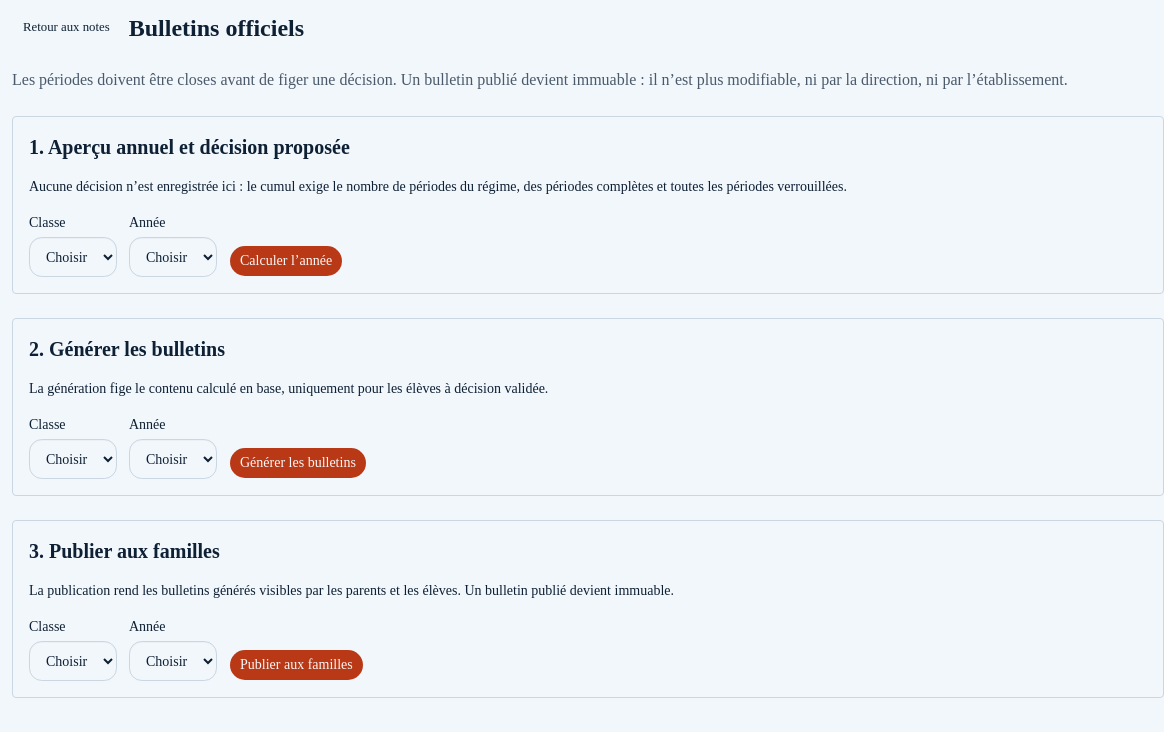
it: rejoue l’aperçu après la validation d’une décision
The width and height of the screenshot is (1164, 732).
Select "CM2" in the dropdown named "classId" at (73, 257), box x1=29 y1=237 x2=117 y2=277
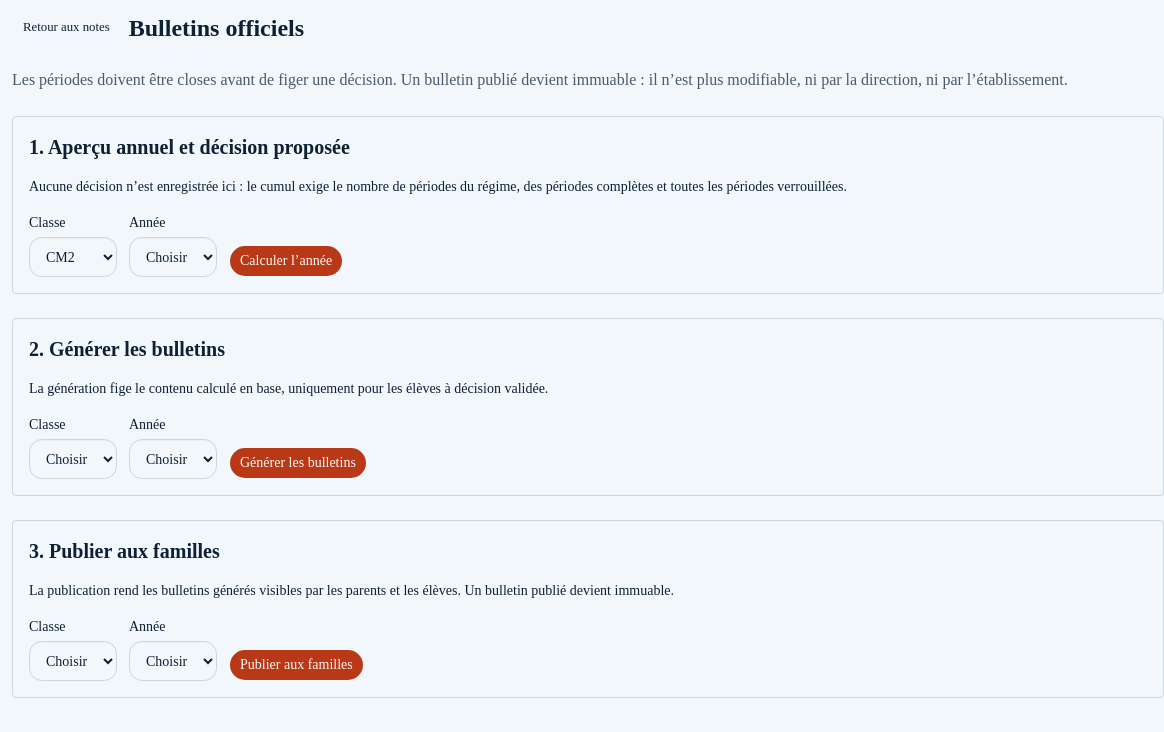
Select "2026" in the dropdown named "academicYearId" at (173, 257), box x1=129 y1=237 x2=217 y2=277
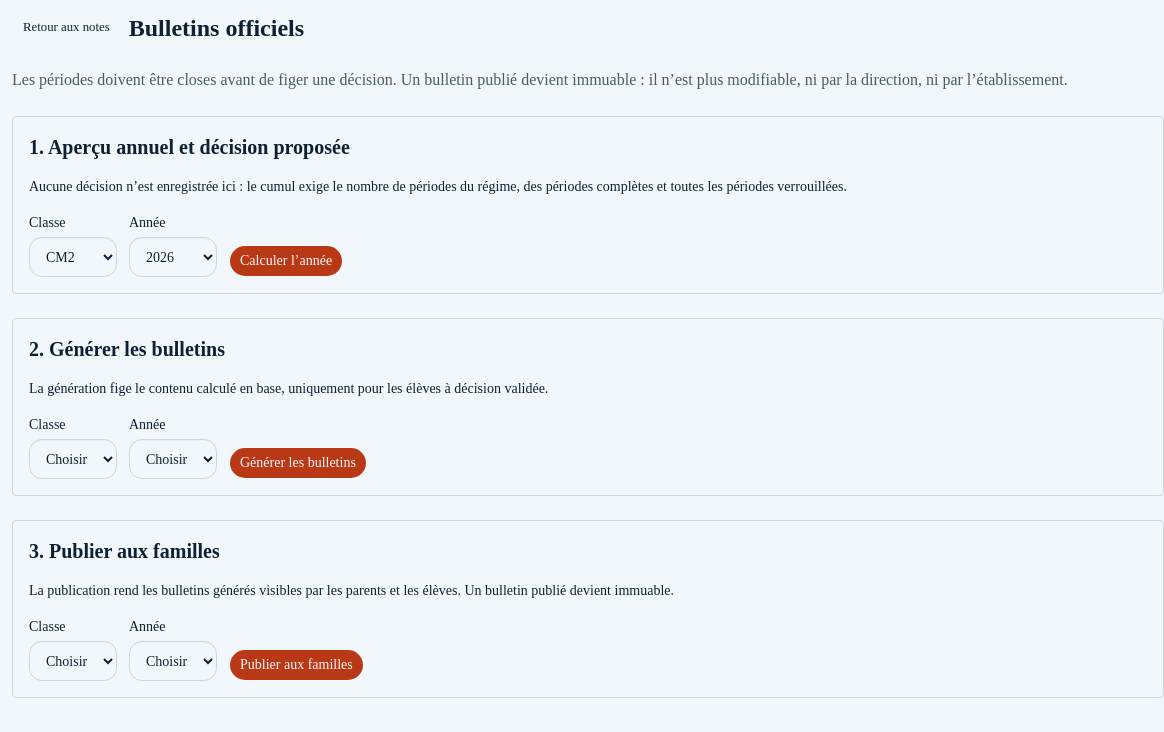
Submit the form "Classe Année Calculer l’année", box x1=29 y1=215 x2=343 y2=277
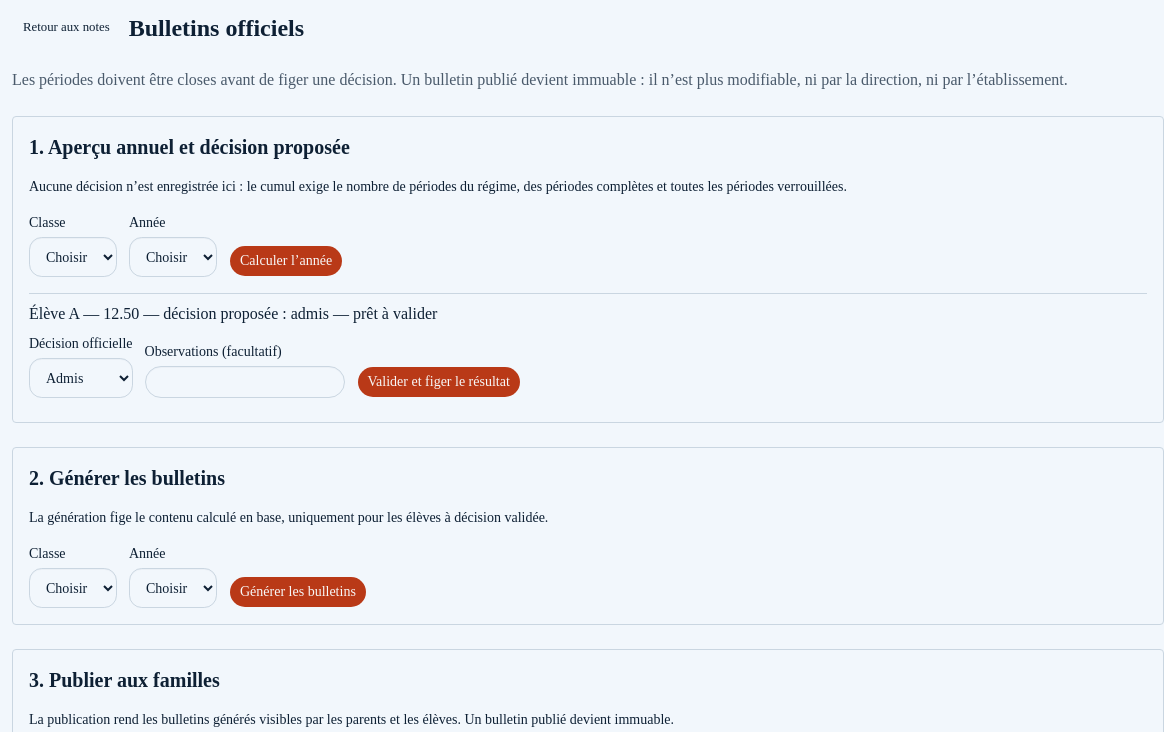
Submit the form that starts with "Décision officielle", box x1=29 y1=336 x2=521 y2=398
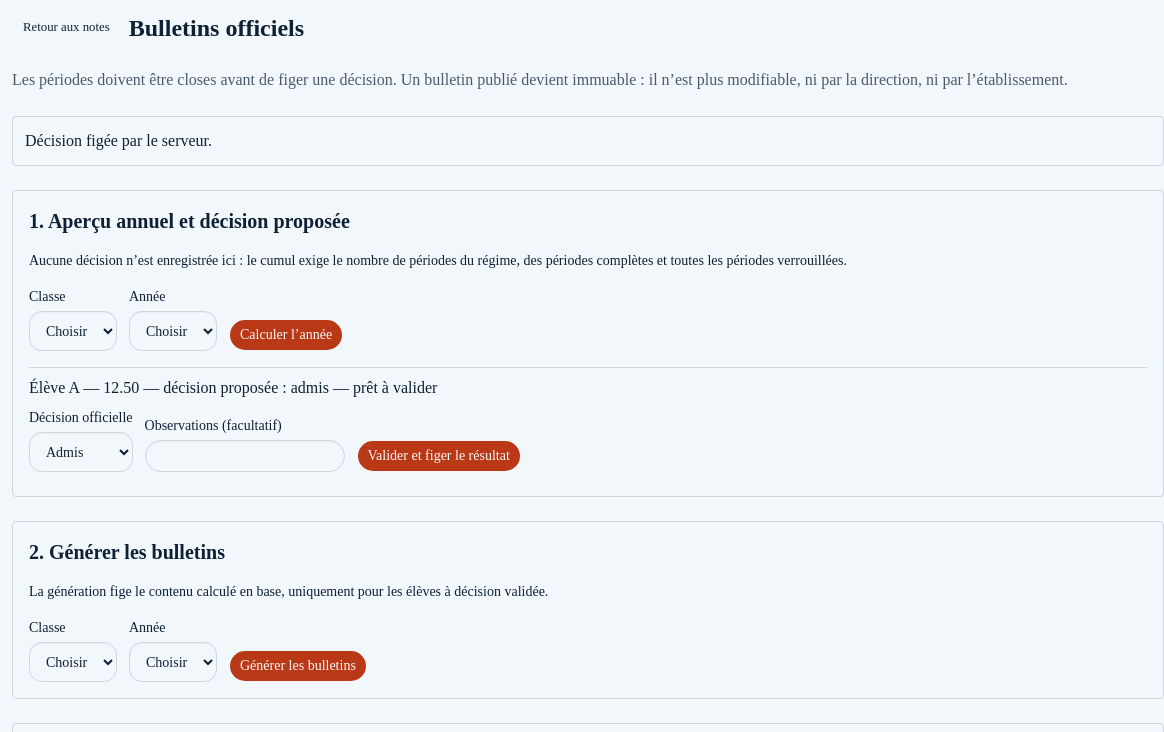
Expected: the text "Décision figée par le serveur" is shown, x1=25 y1=132 x2=212 y2=149
